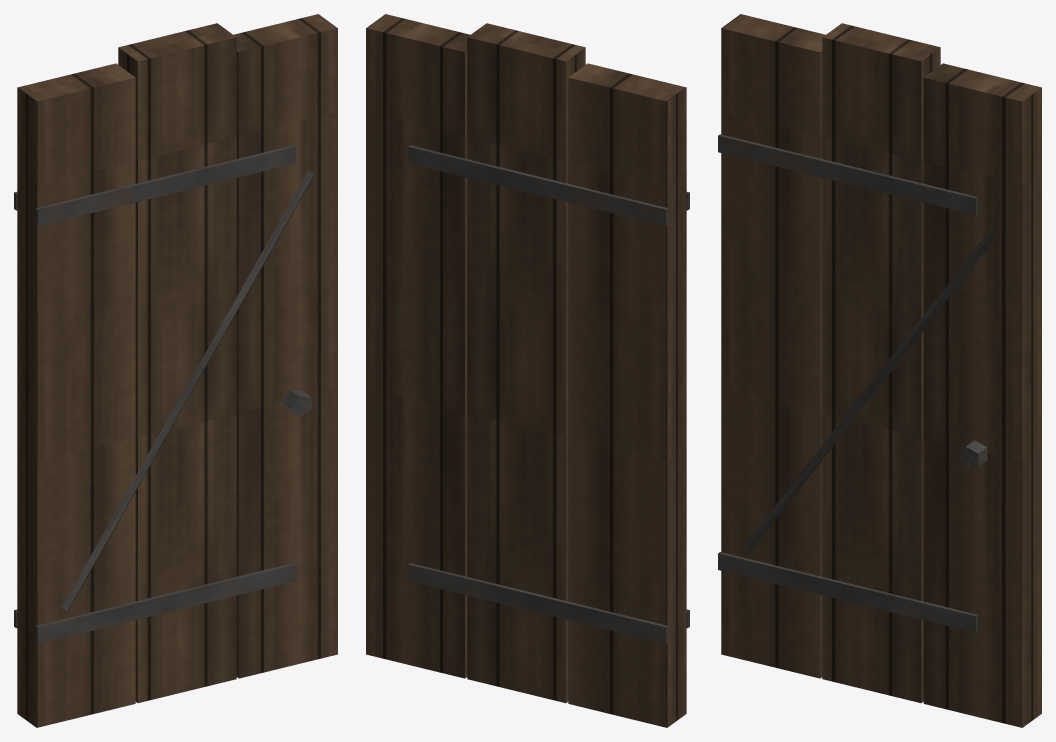
File: Door_8_Round_LOD1.gltf
The picture shows the model from 3 angles, left to right: view 1: azimuth 30°, elevation 25°; view 2: azimuth 150°, elevation 25°; view 3: azimuth 330°, elevation 25°; orthographic projection.
Parts seen in each view (by area): view 1: Door_8_Round_LOD1; view 2: Door_8_Round_LOD1; view 3: Door_8_Round_LOD1.
Boxes of the visible parts, x1,y1,x2,y2 form: Door_8_Round_LOD1: [14, 14, 337, 727]; Door_8_Round_LOD1: [366, 14, 689, 727]; Door_8_Round_LOD1: [718, 14, 1041, 727].
Size of the model in its own units: 1.15 by 2.33 by 0.2.
2 materials, 2 textured.
